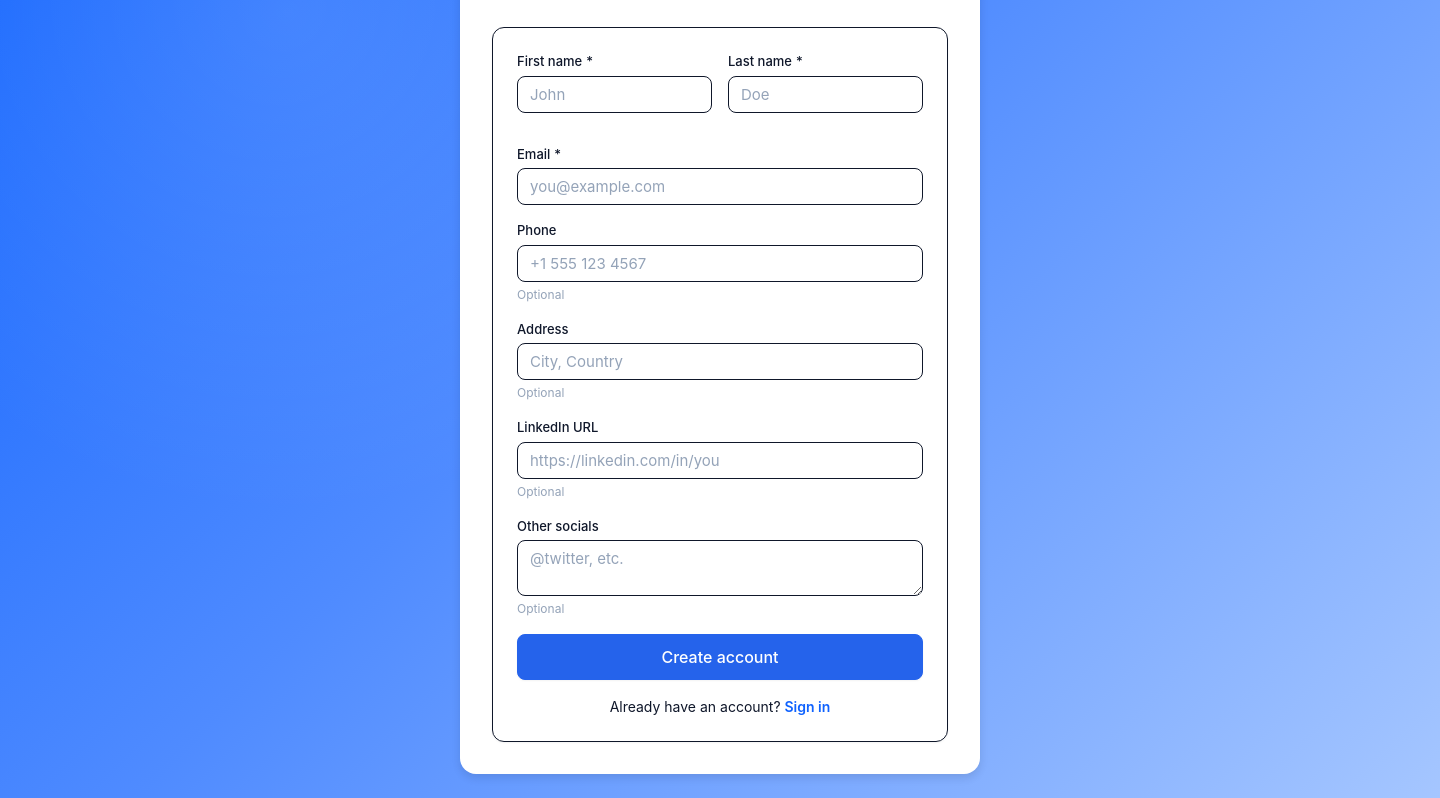
it: RegisterPage › shows validation errors for missing required fields and invalid LinkedIn URL
(page scrolled)
# Submit button says "Create account"
Click the button "Create account" at (720, 657), box [517,634,923,680]
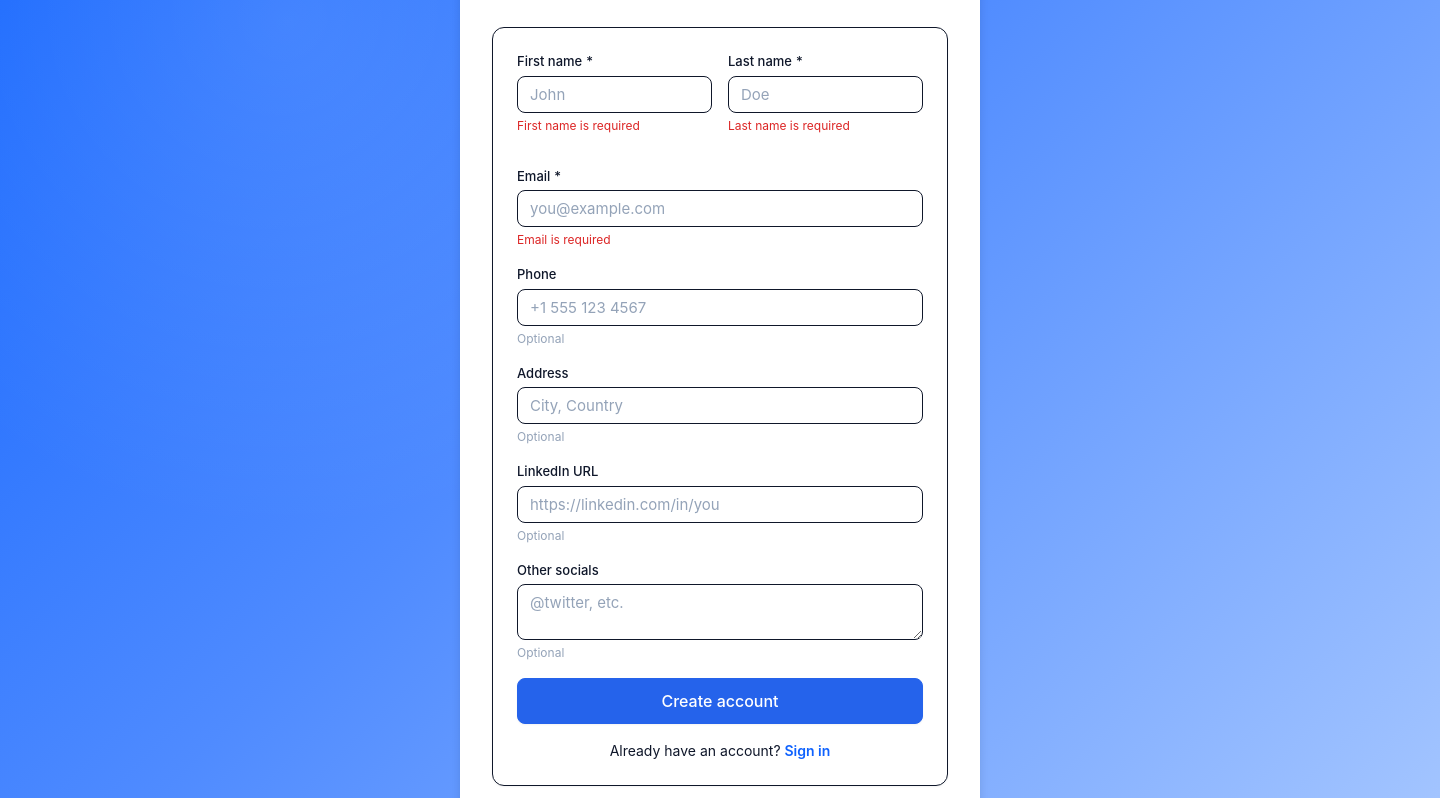
Now the text "Email is required" is shown, box [517,232,611,247]
Now the text "First name is required" is shown, box [517,118,640,132]
Now the text "Last name is required" is shown, box [728,118,850,132]
# Fill in required fields
Type "user@example.com" into the field with placeholder "you@example.com" at (720, 208), box [517,190,923,227]
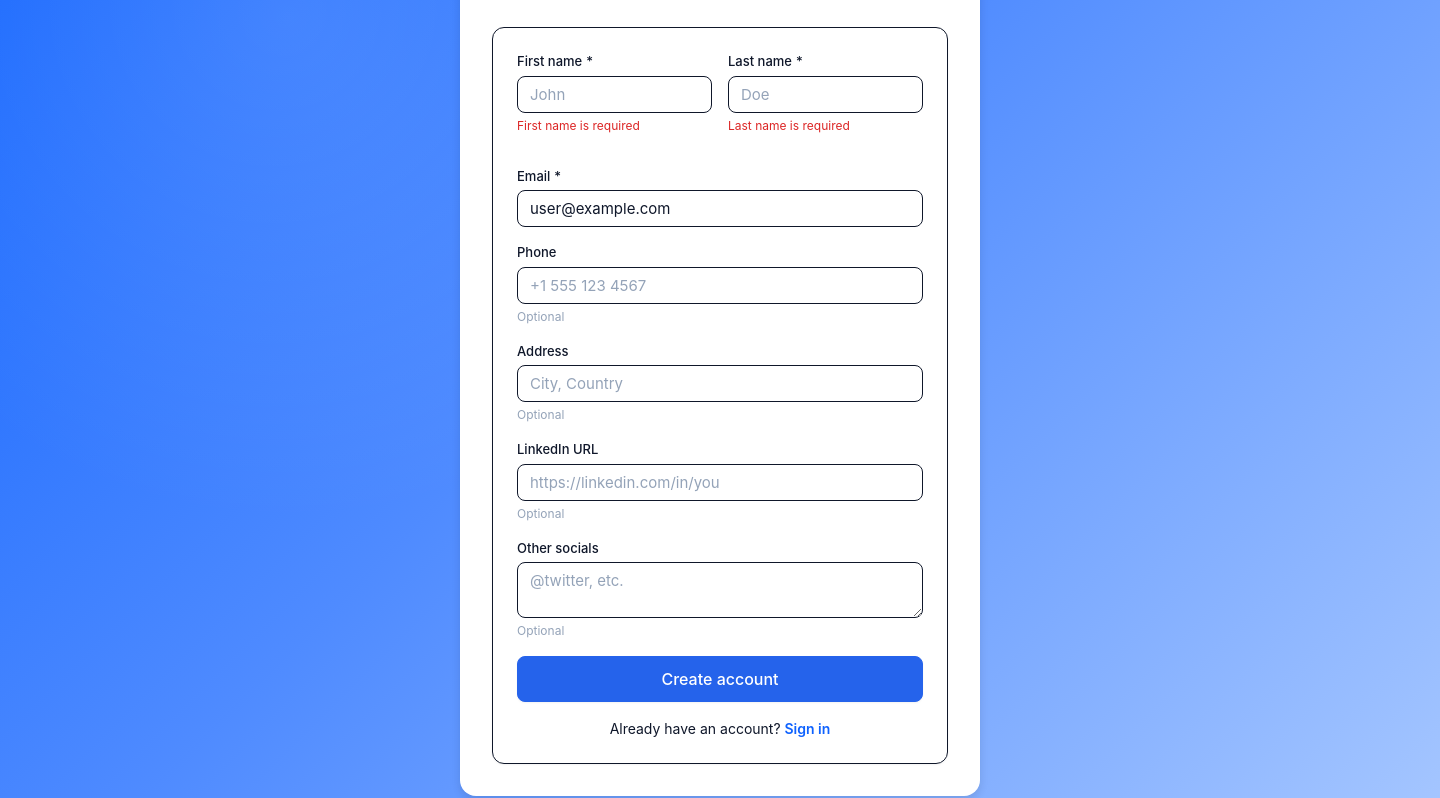
Type "Ann" into the field with placeholder "John" at (614, 94), box [517,76,712,112]
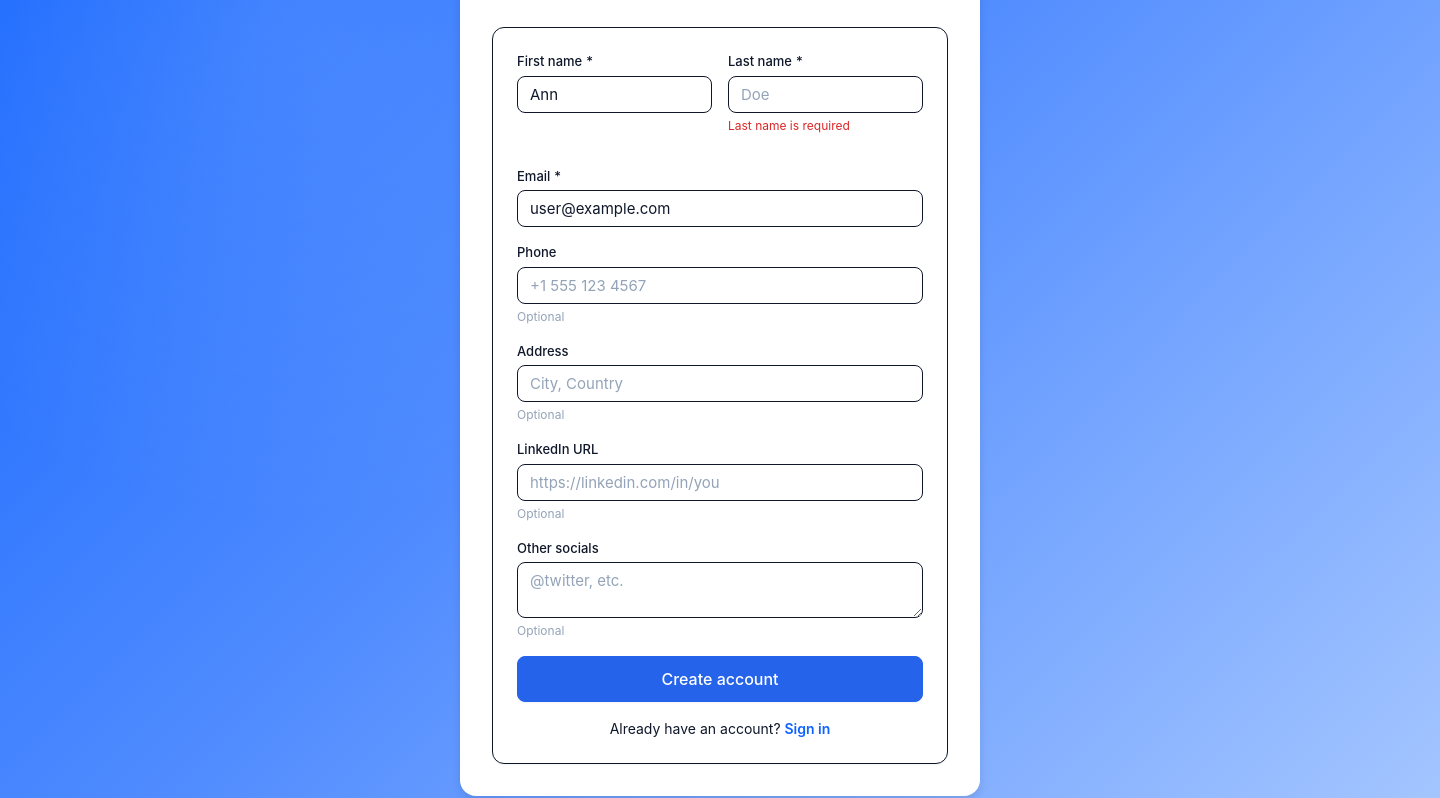
Type "Lee" into the field with placeholder "Doe" at (826, 94), box [728,76,923,112]
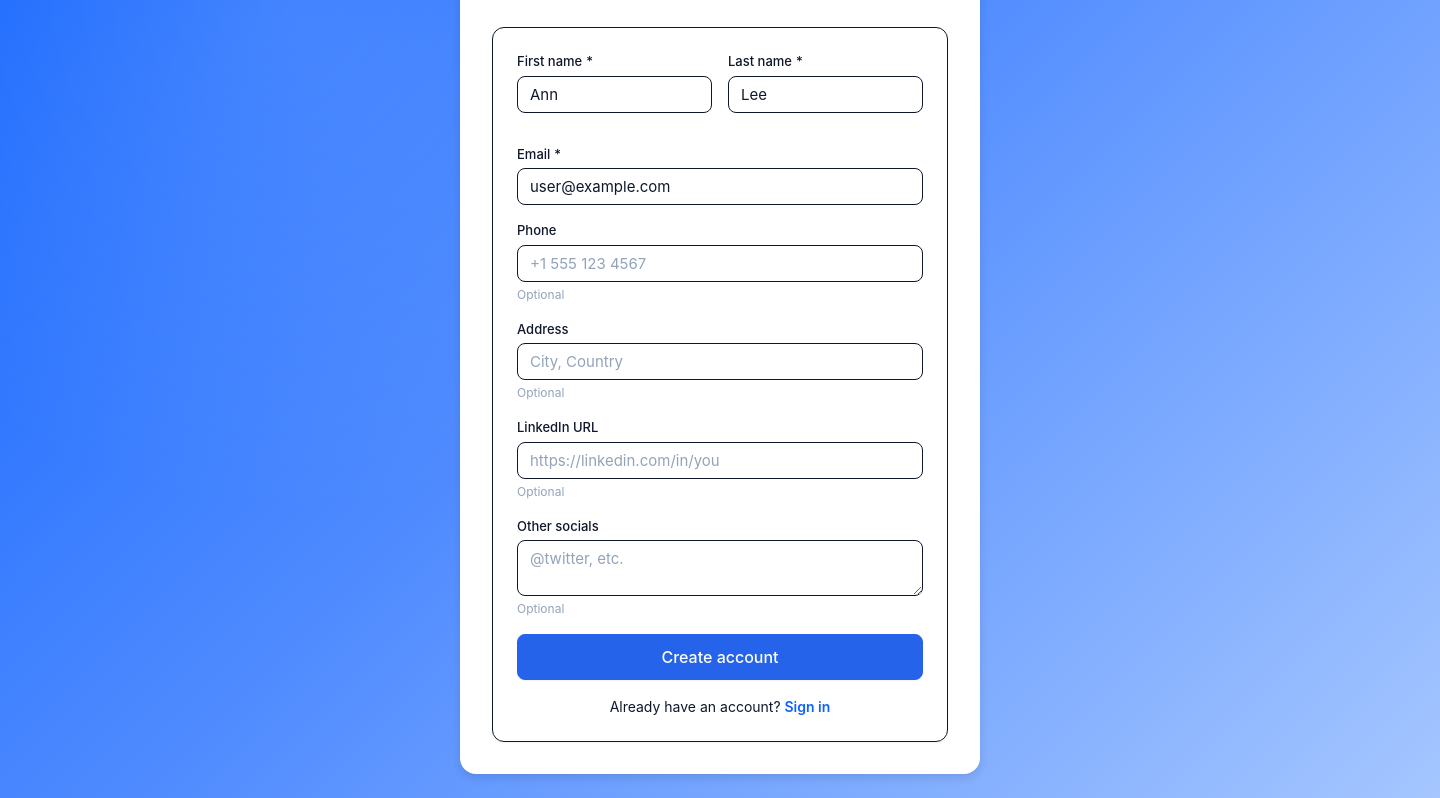
Type "not-a-url" into the field with placeholder "https://linkedin.com/in/you" at (720, 460), box [517,442,923,478]
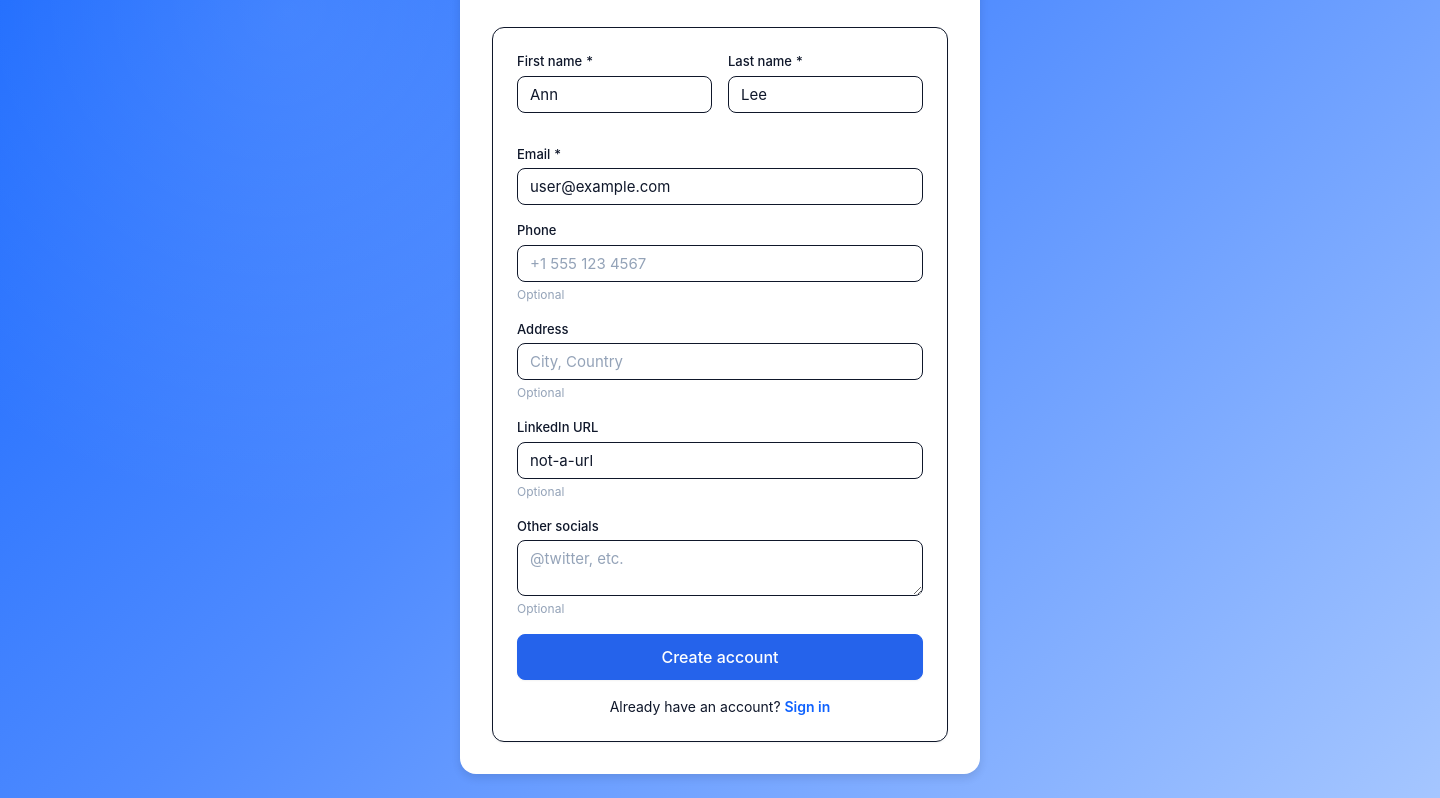
Click the button "Create account" at (720, 657), box [517,634,923,680]
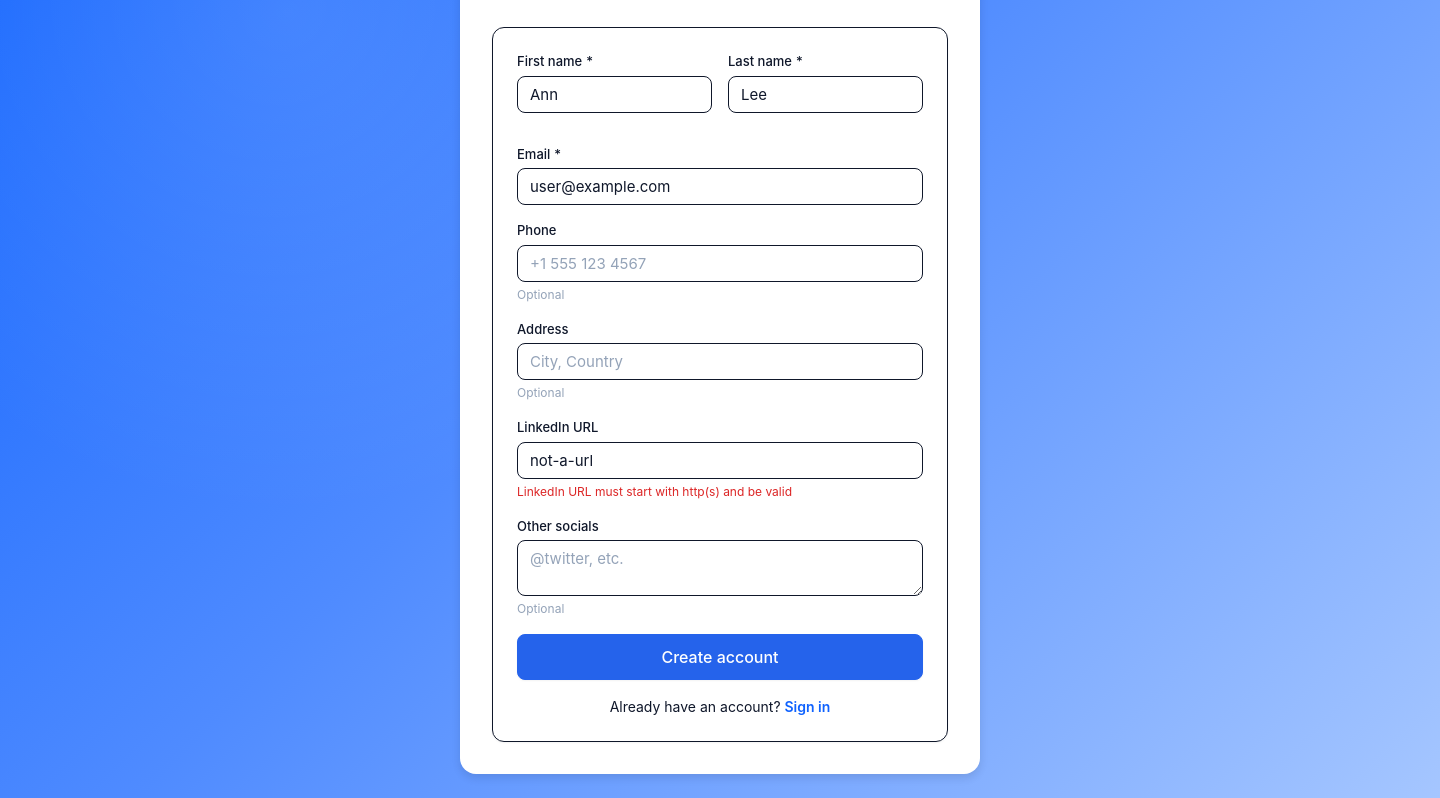
Now the text "LinkedIn URL must start with http(s) and be valid" is shown, box [517,484,792,498]
